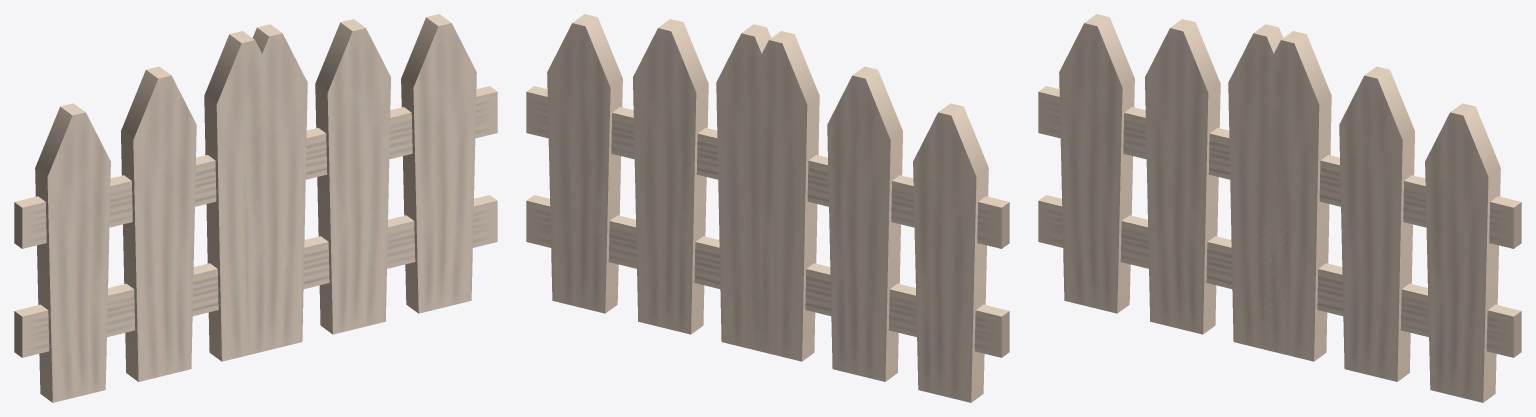
File: PicketGateHand.fbx
3 views of the same model, side by side, from view 1: azimuth 30°, elevation 25°; view 2: azimuth 150°, elevation 25°; view 3: azimuth 330°, elevation 25° (orthographic).
Visible parts, largest first — view 1: FencePost (1), FencePost; view 2: FencePost, FencePost (1); view 3: FencePost (1), FencePost.
Boxes of the visible parts, x1=… form: FencePost (1): x1=244, y1=14, x2=497, y2=354; FencePost: x1=14, y1=31, x2=274, y2=402; FencePost: x1=744, y1=31, x2=1009, y2=402; FencePost (1): x1=526, y1=14, x2=779, y2=354; FencePost (1): x1=1257, y1=31, x2=1521, y2=402; FencePost: x1=1038, y1=14, x2=1291, y2=354.
Size of the model in its own units: 1.49 by 0.9385 by 0.0673.
Materials: 1 (1 with a texture image).
